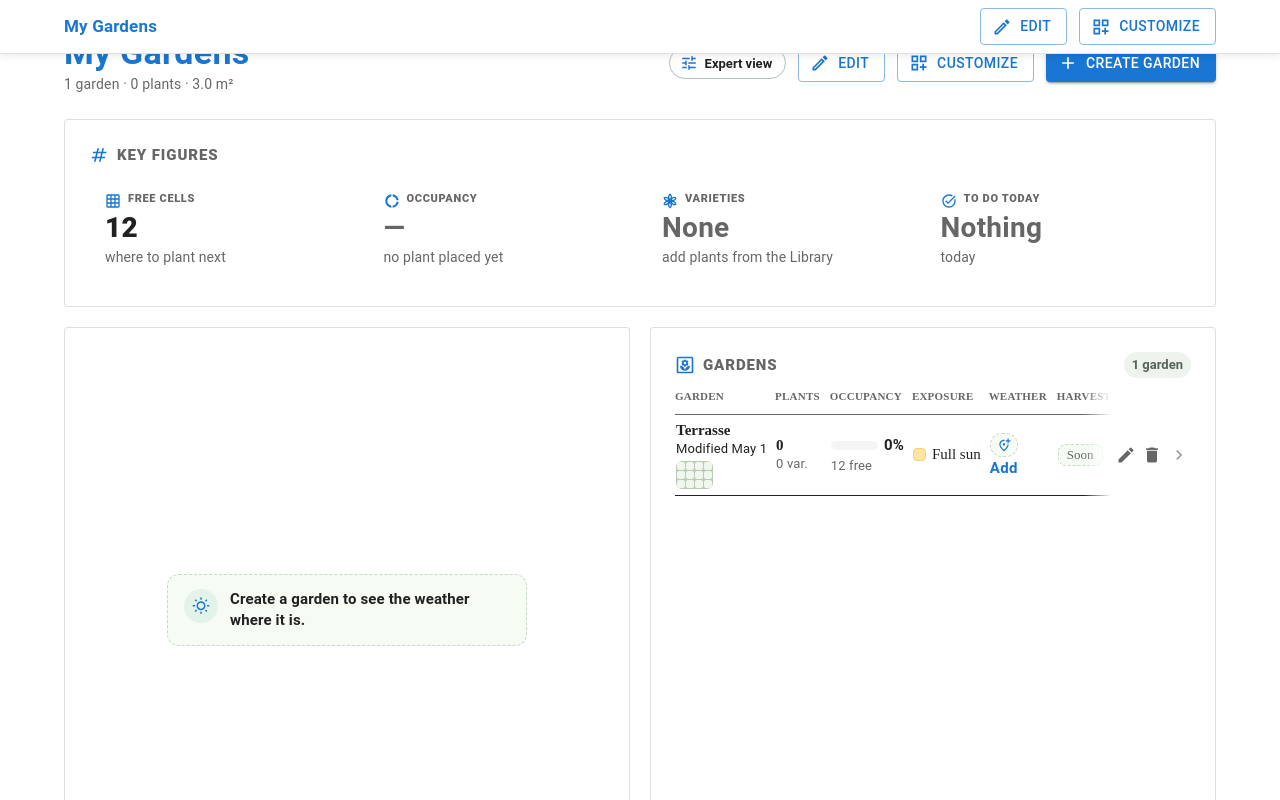
Test: the compact action bar in Edit mode (SMA-437, lot V39, B5) › reads « Edit mode » and carries Done and Customize — the case it is for — in place of the page’s title
Click the 1st button "Edit". click: coordinates (1024, 27)
box: [980,8,1067,45]
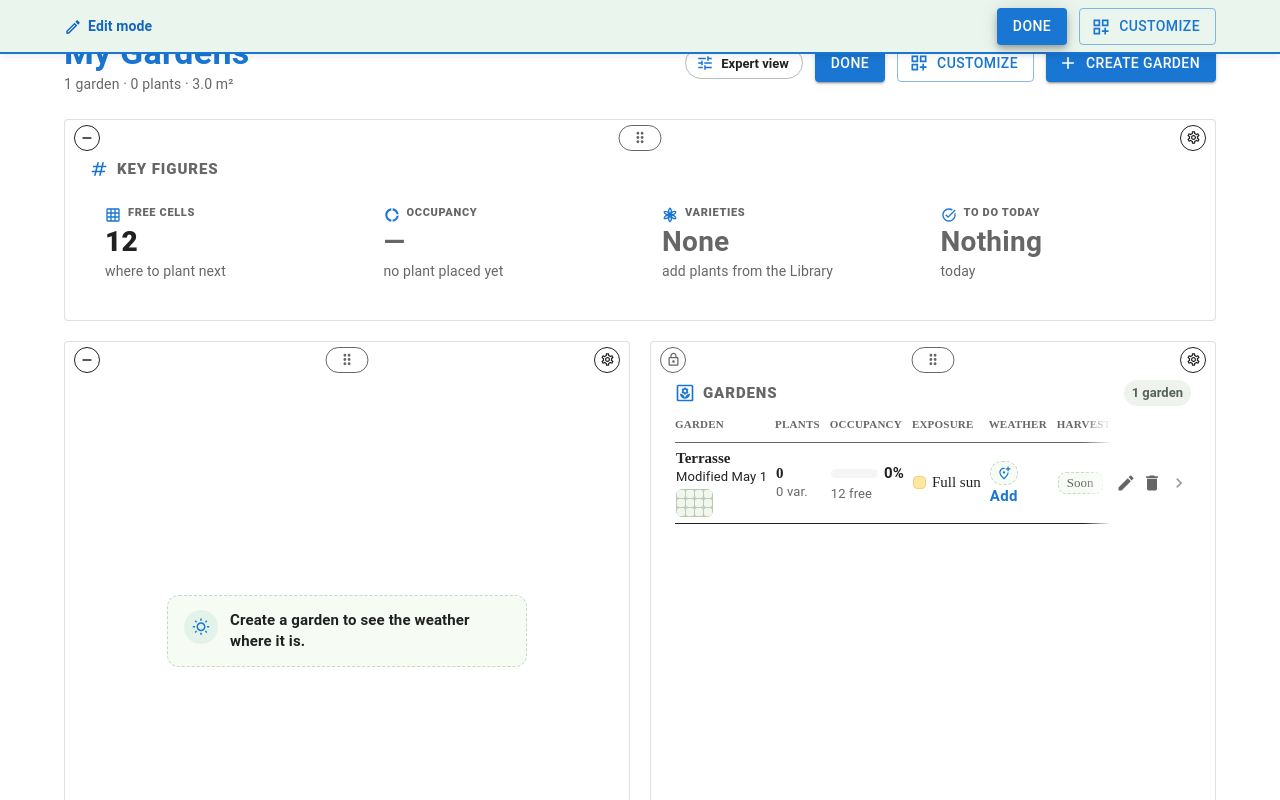
expect the text "Edit mode" is shown: met, box [64,17,152,36]
Click the button "Done" in the row of "Edit mode". click: coordinates (1032, 27)
box: [997,8,1067,45]
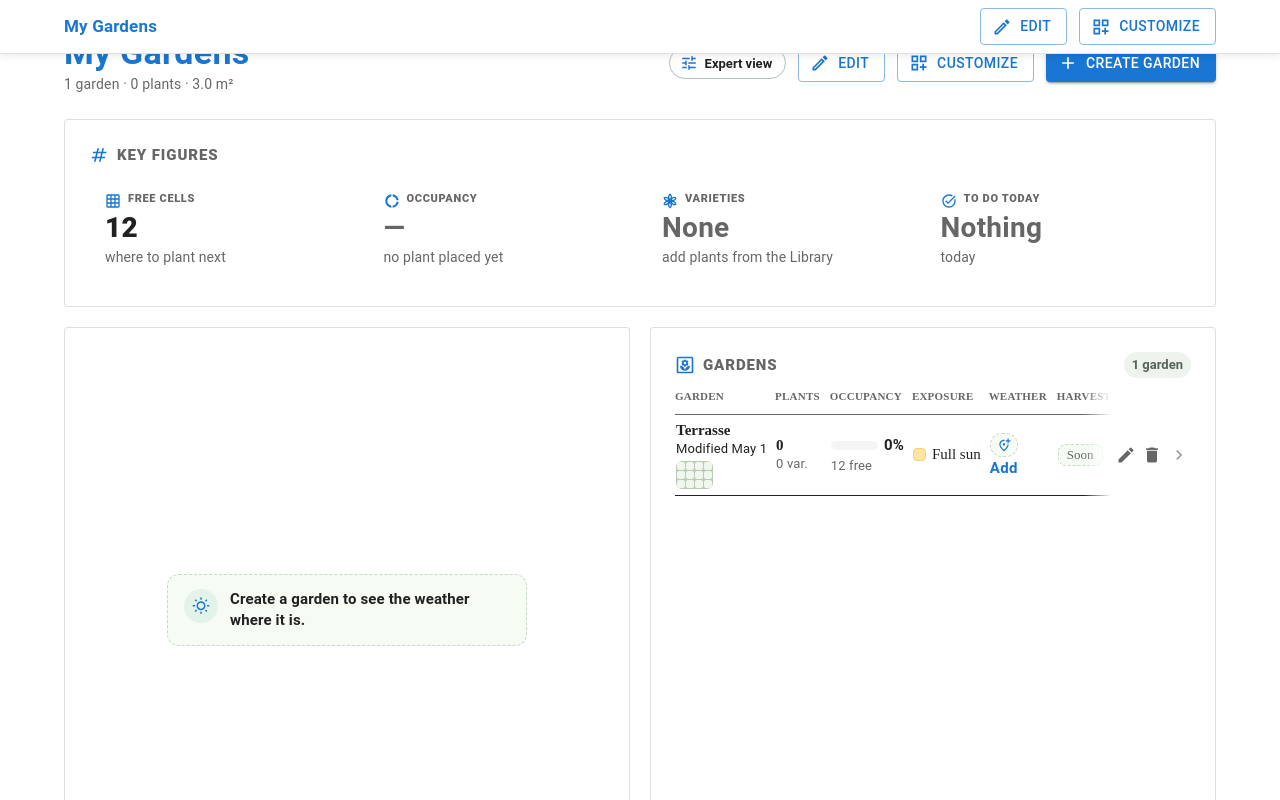
expect the text "Edit mode" is gone: met
expect the text "Edit mode" reads "My Gardens": met, box [64,16,157,36]
